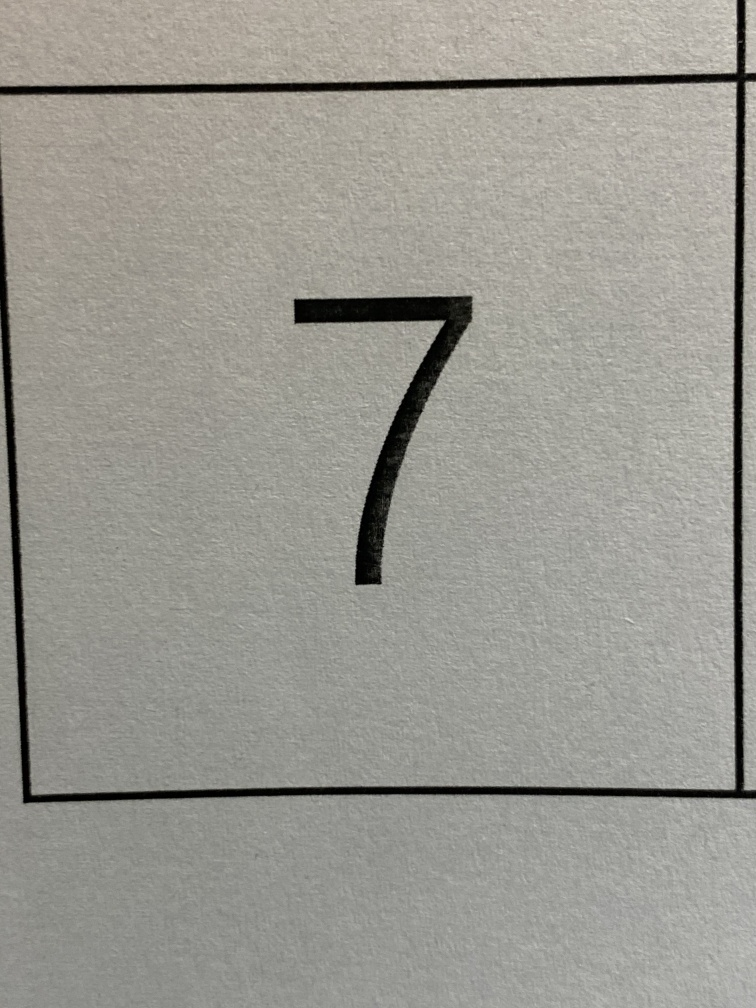seven: (227, 230, 551, 648)
